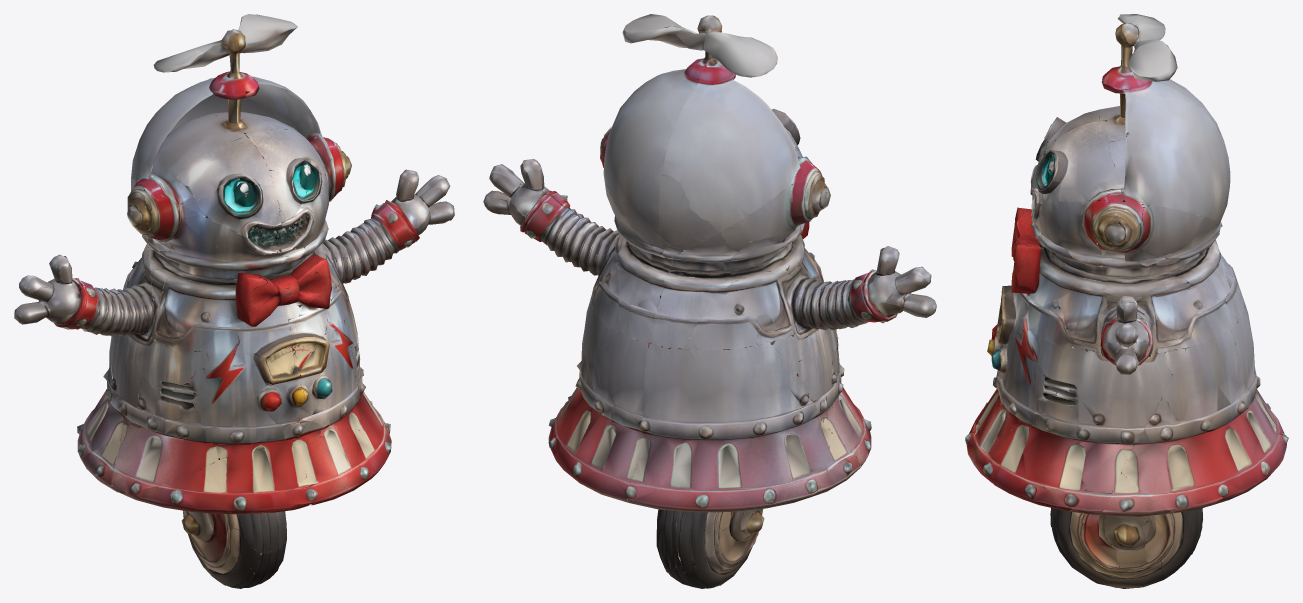
3 views of the same model, side by side, from view 1: azimuth 30°, elevation 25°; view 2: azimuth 150°, elevation 25°; view 3: azimuth 270°, elevation 25° (orthographic). The views are drawn at different scales.
Parts seen in each view (by area): view 1: tripo_node_ebbffd51-bba0-4878-8c1b-bcfd99505939; view 2: tripo_node_ebbffd51-bba0-4878-8c1b-bcfd99505939; view 3: tripo_node_ebbffd51-bba0-4878-8c1b-bcfd99505939.
Part boxes in pixels (x1,y1,x2,y2): tripo_node_ebbffd51-bba0-4878-8c1b-bcfd99505939: (14,14,454,588); tripo_node_ebbffd51-bba0-4878-8c1b-bcfd99505939: (483,14,936,588); tripo_node_ebbffd51-bba0-4878-8c1b-bcfd99505939: (965,14,1288,588).
Size of the model in its own units: 0.8169 by 0.9804 by 0.5126.
1 material, 1 textured.
